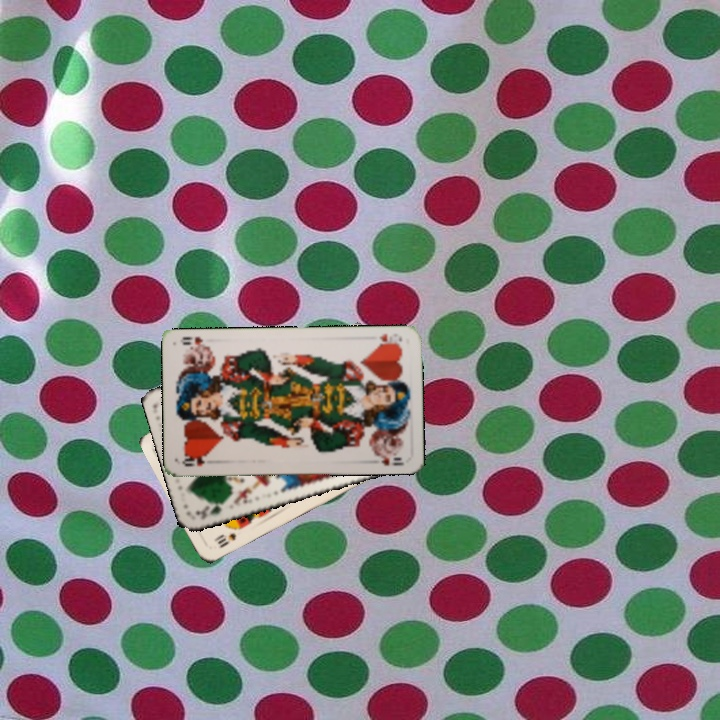GK: (191, 497, 229, 522)
HO: (373, 329, 404, 349), (179, 453, 210, 469)
S10: (210, 529, 239, 550)
